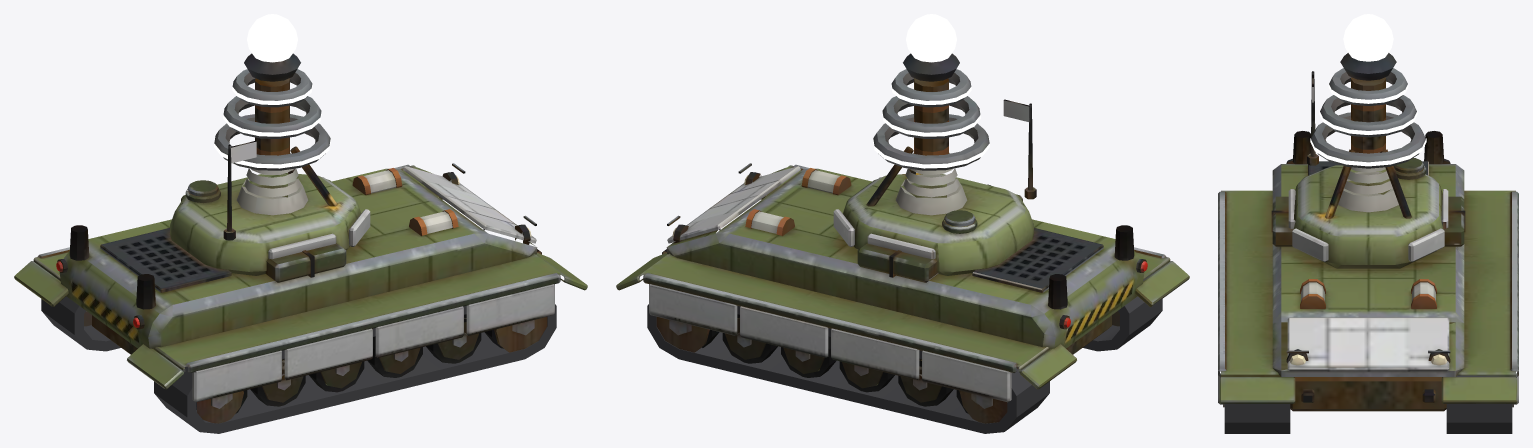
File: ttnk.soviet.glb
The picture shows the model from 3 angles, left to right: view 1: azimuth 30°, elevation 25°; view 2: azimuth 150°, elevation 25°; view 3: azimuth 270°, elevation 25°; orthographic projection.
Visible parts, largest first — view 1: root_mesh, turret_mesh; view 2: root_mesh, turret_mesh; view 3: root_mesh, turret_mesh.
Part boxes in pixels (x1,y1,x2,y2): root_mesh: (14, 163, 587, 433); turret_mesh: (170, 14, 370, 275); root_mesh: (616, 163, 1189, 433); turret_mesh: (833, 14, 1036, 275); root_mesh: (1218, 131, 1518, 433); turret_mesh: (1288, 14, 1448, 268).
Bounding box in the file's own units: 0.9562 × 0.718 × 0.596.
4 materials, 1 textured.
